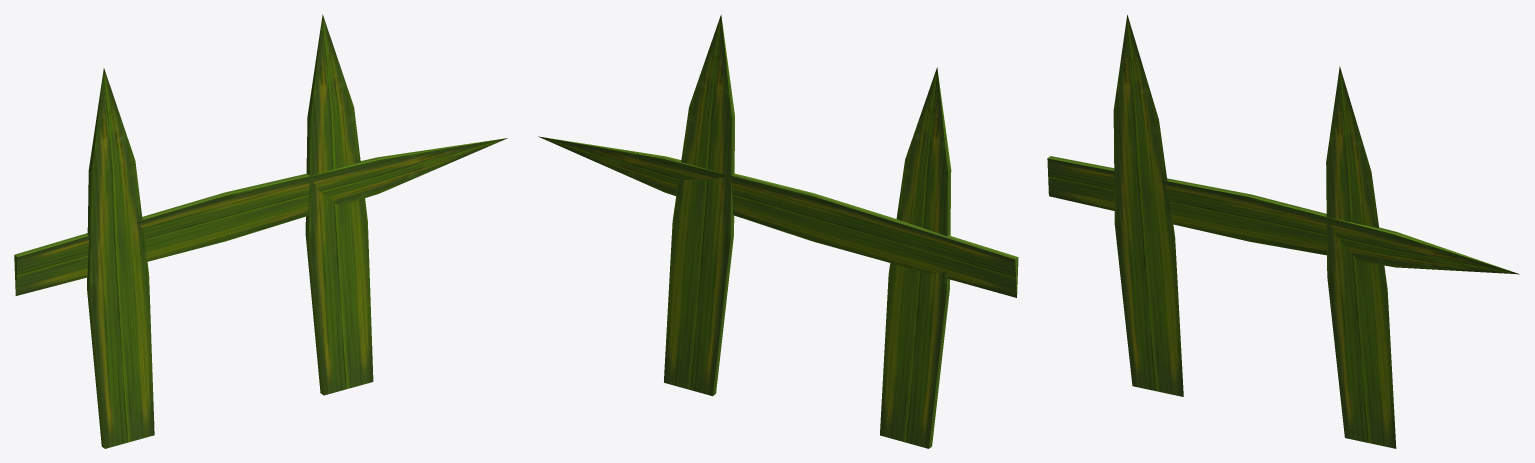
File: trees__guardrail.glb
The picture shows the model from 3 angles, left to right: view 1: azimuth 30°, elevation 25°; view 2: azimuth 150°, elevation 25°; view 3: azimuth 330°, elevation 25°; orthographic projection. The views are drawn at different scales.
Visible parts, largest first — view 1: guard8; view 2: guard8; view 3: guard8.
Part boxes in pixels (x1,y1,x2,y2): guard8: [14, 14, 507, 448]; guard8: [538, 14, 1018, 448]; guard8: [1047, 15, 1519, 448].
Size of the model in its own units: 25.43 by 19.07 by 0.5838.
Materials: 1 (1 with a texture image).
